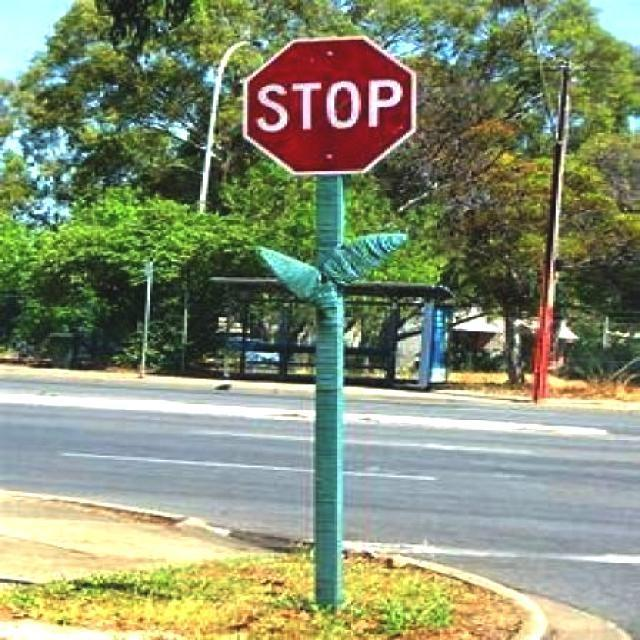Stop-Sign: (244, 36, 415, 175)
